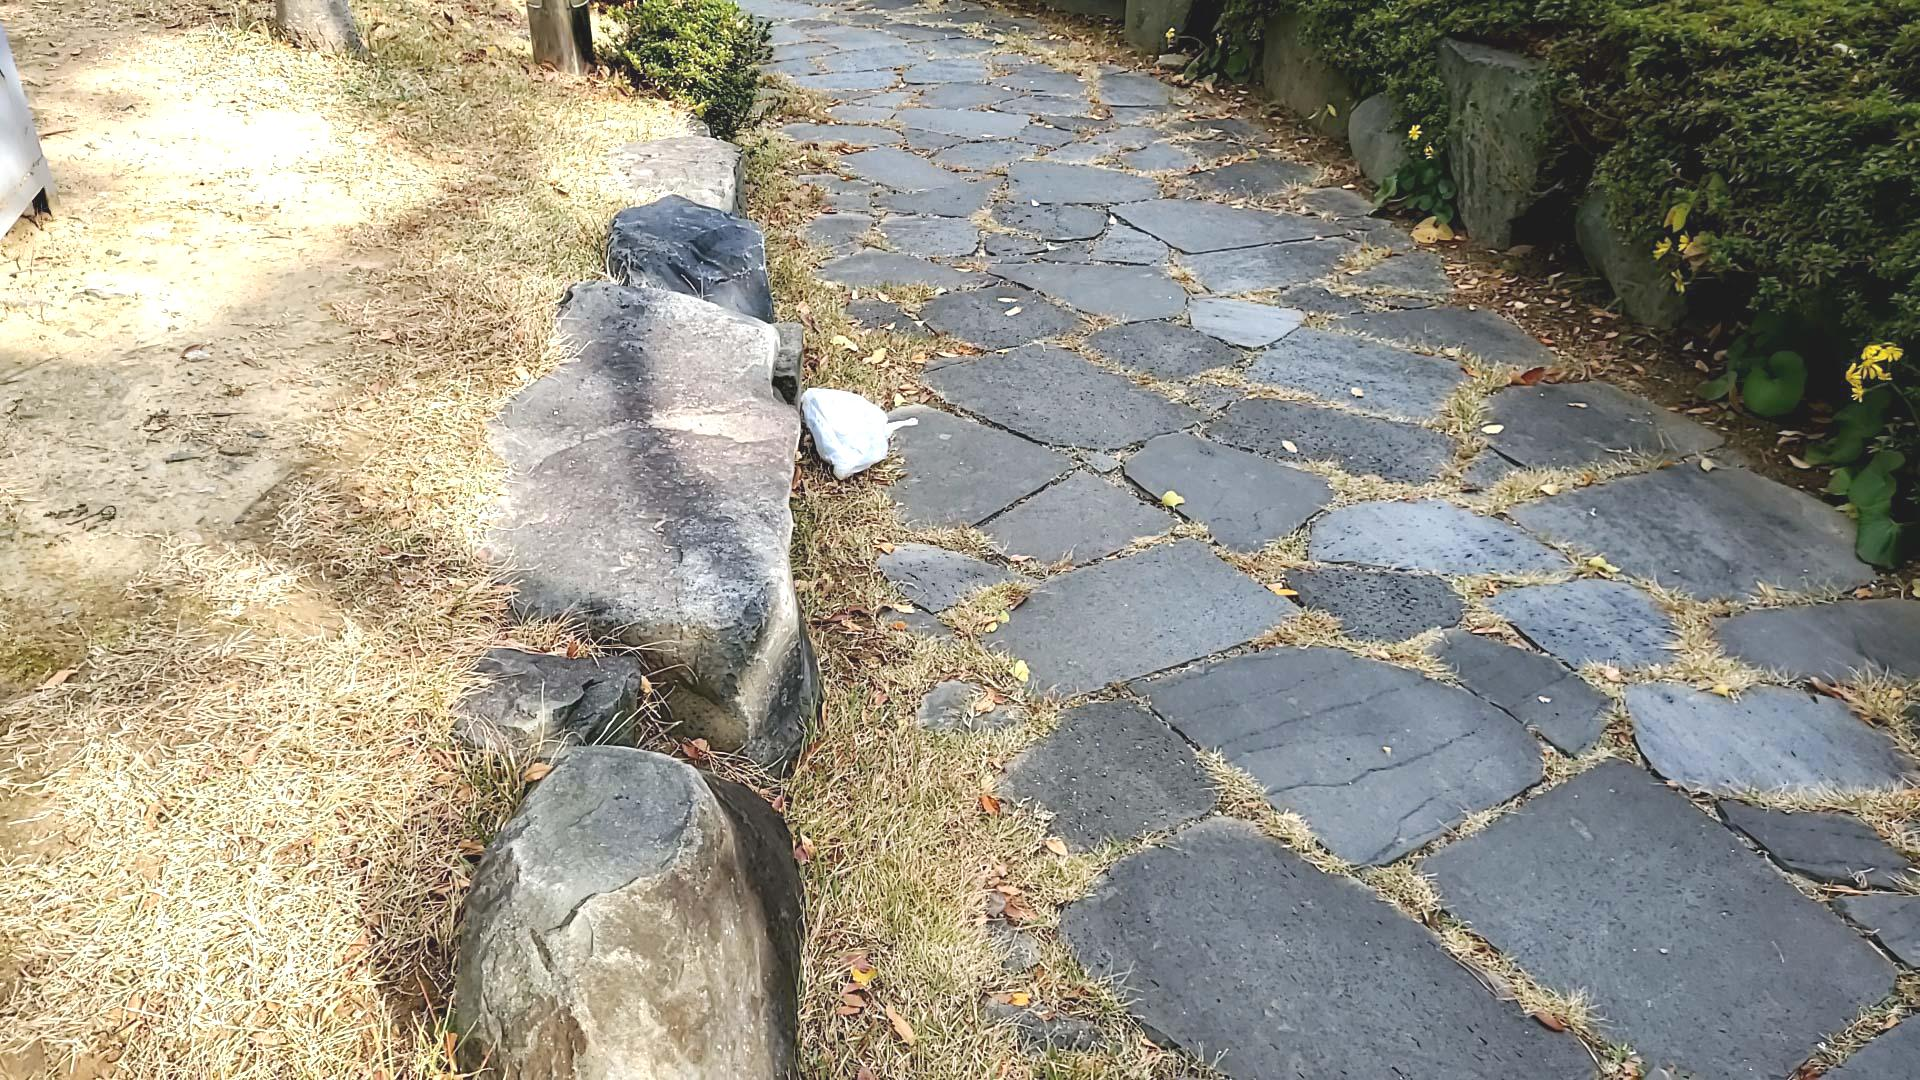white_bag: (787, 377, 926, 477)
